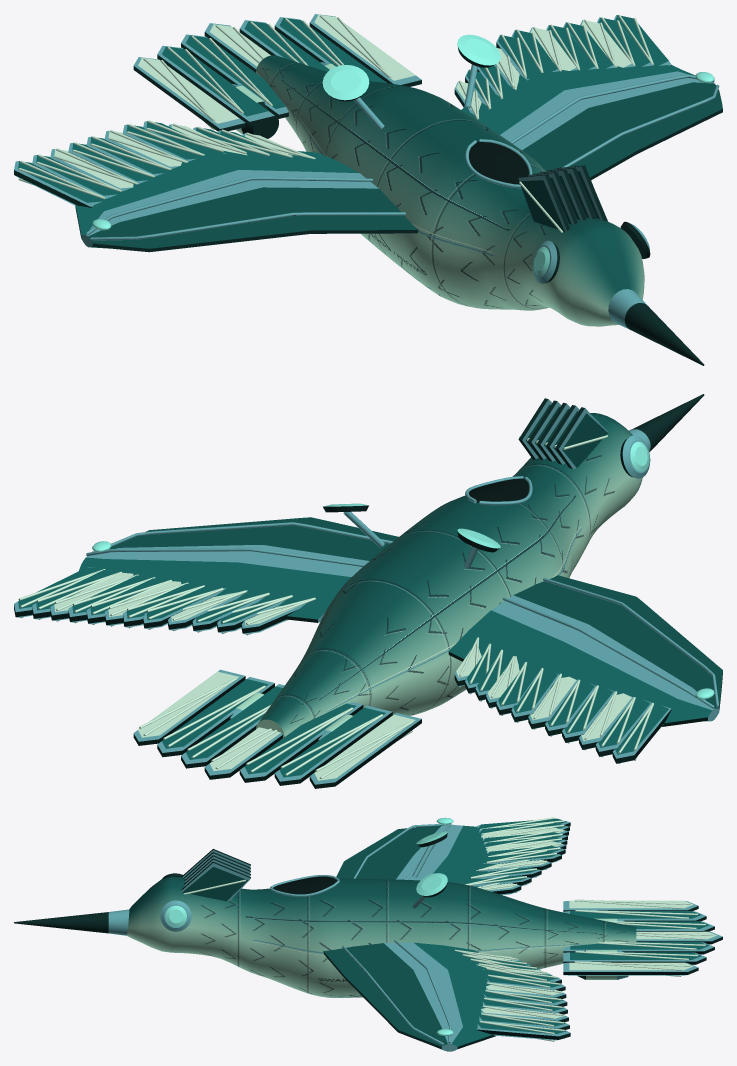
3 renders of one model, top to bottom at view 1: azimuth 30°, elevation 25°; view 2: azimuth 150°, elevation 25°; view 3: azimuth 270°, elevation 25°, orthographic. The views are drawn at different scales.
Parts seen in each view (by area): view 1: kingfisher_hull; view 2: kingfisher_hull; view 3: kingfisher_hull.
Part boxes in pixels (x1,y1,x2,y2): kingfisher_hull: [14, 14, 722, 365]; kingfisher_hull: [14, 394, 722, 788]; kingfisher_hull: [14, 817, 722, 1051].
Bounding box in the file's own units: 12.5 × 3.63 × 17.
Materials: 1 (1 with a texture image).
